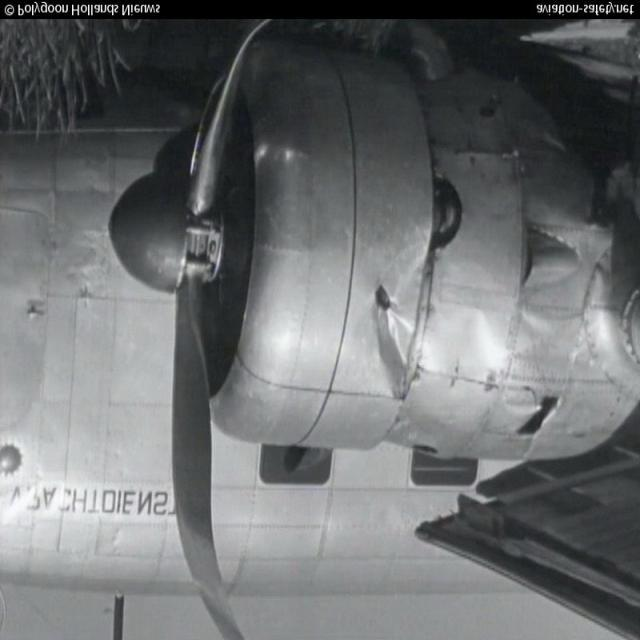dent: (365, 263, 418, 380)
